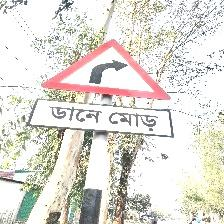Right-turn: (31, 39, 174, 138)
